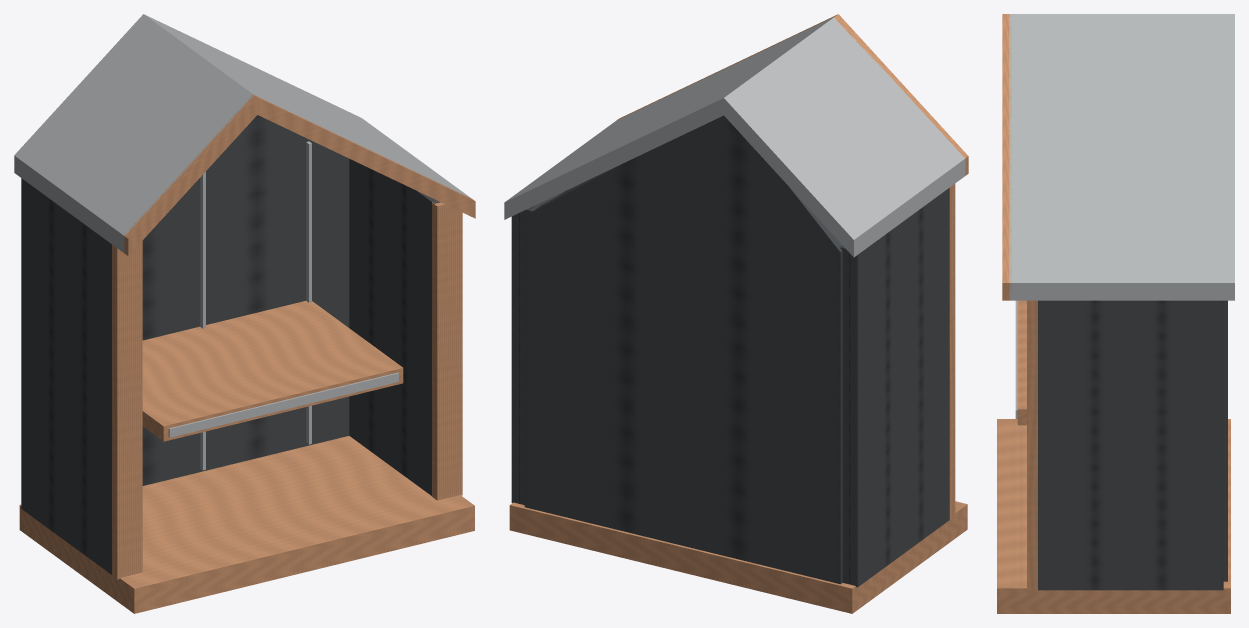
The model's file is s17-telephone-alcove-low.glb.
3 views of the same model, side by side, from view 1: azimuth 30°, elevation 25°; view 2: azimuth 150°, elevation 25°; view 3: azimuth 270°, elevation 25° (orthographic).
Visible parts, largest first — view 1: Cork base and side cheeks, Graphite felt lining, Asymmetric nickel gable, Floating handset shelf; view 2: Graphite felt lining, Cork base and side cheeks, Asymmetric nickel gable; view 3: Cork base and side cheeks, Asymmetric nickel gable, Floating handset shelf, Graphite felt lining.
Part boxes in pixels (bbox=[...]): Cork base and side cheeks: bbox=[19, 159, 474, 613]; Graphite felt lining: bbox=[142, 115, 349, 485]; Asymmetric nickel gable: bbox=[14, 14, 475, 255]; Floating handset shelf: bbox=[142, 301, 403, 441]; Graphite felt lining: bbox=[524, 115, 842, 584]; Cork base and side cheeks: bbox=[509, 180, 967, 613]; Asymmetric nickel gable: bbox=[504, 14, 968, 257]; Cork base and side cheeks: bbox=[997, 300, 1230, 613]; Asymmetric nickel gable: bbox=[1002, 14, 1234, 300]; Floating handset shelf: bbox=[1015, 300, 1026, 425]; Graphite felt lining: bbox=[1223, 300, 1227, 581].
Bounding box in the file's own units: 2.15 × 2.86 × 1.25.
1 material, 1 textured.
